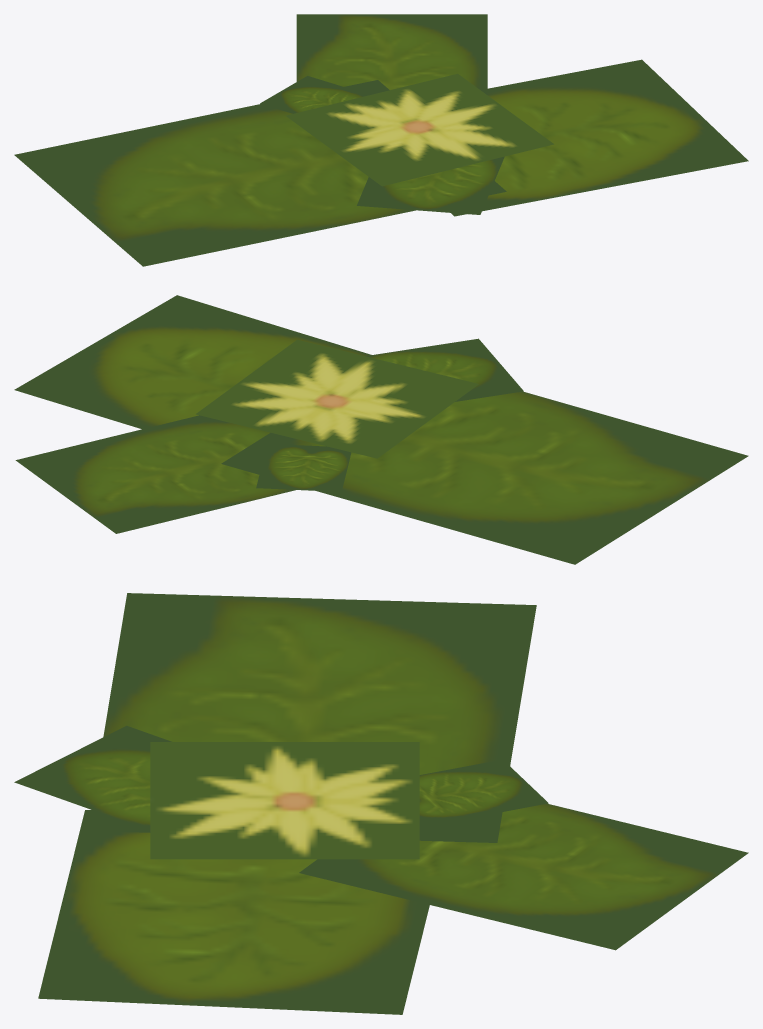
The model's file is Water_lily_04.FBX.
3 views of the same model, one above another, from view 1: azimuth 30°, elevation 25°; view 2: azimuth 150°, elevation 25°; view 3: azimuth 270°, elevation 25° (orthographic). The views are drawn at different scales.
Parts seen in each view (by area): view 1: Water_lily_04; view 2: Water_lily_04; view 3: Water_lily_04.
Boxes of the visible parts, box(x1,y1,x2,y2) form: Water_lily_04: box(14, 14, 748, 266); Water_lily_04: box(14, 295, 748, 564); Water_lily_04: box(14, 593, 748, 1014).
Bounding box in the file's own units: 125 × 4.96 × 95.14.
